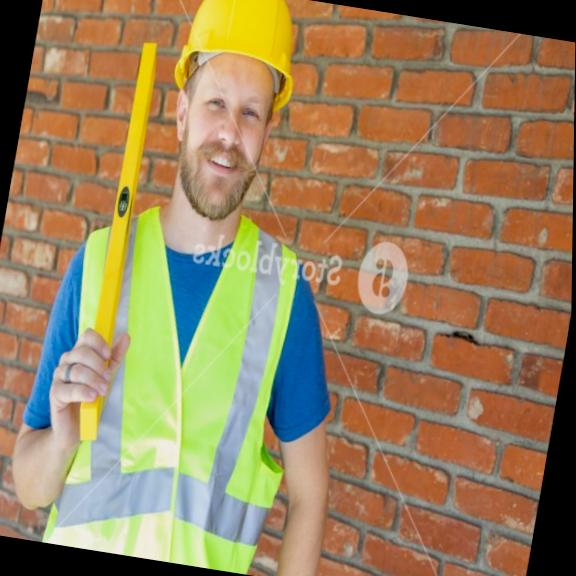safety_vest: (24, 199, 360, 576)
